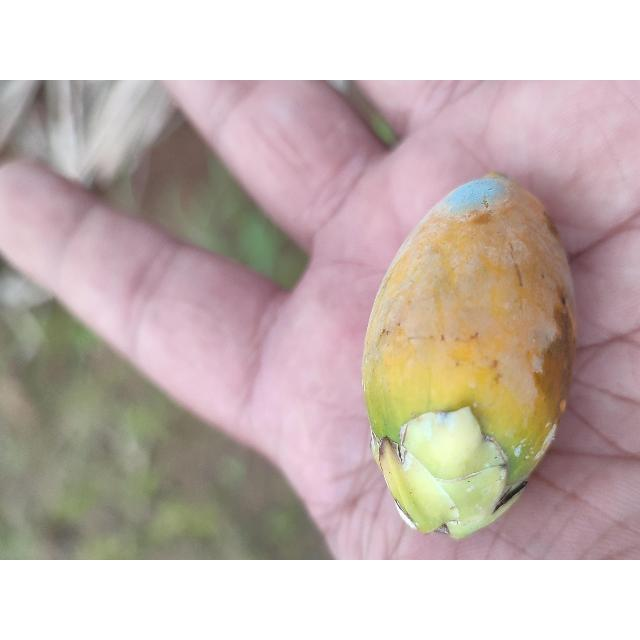good: (360, 174, 577, 541)
